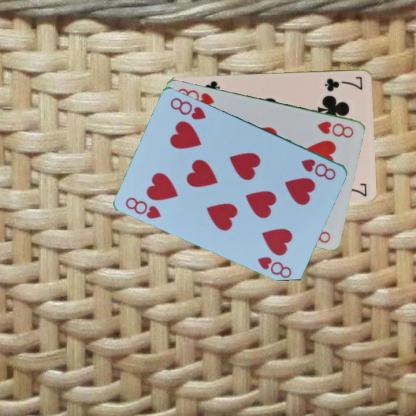7c: (322, 74, 364, 92)
8h: (123, 194, 163, 220), (299, 156, 337, 181), (315, 118, 355, 139)
